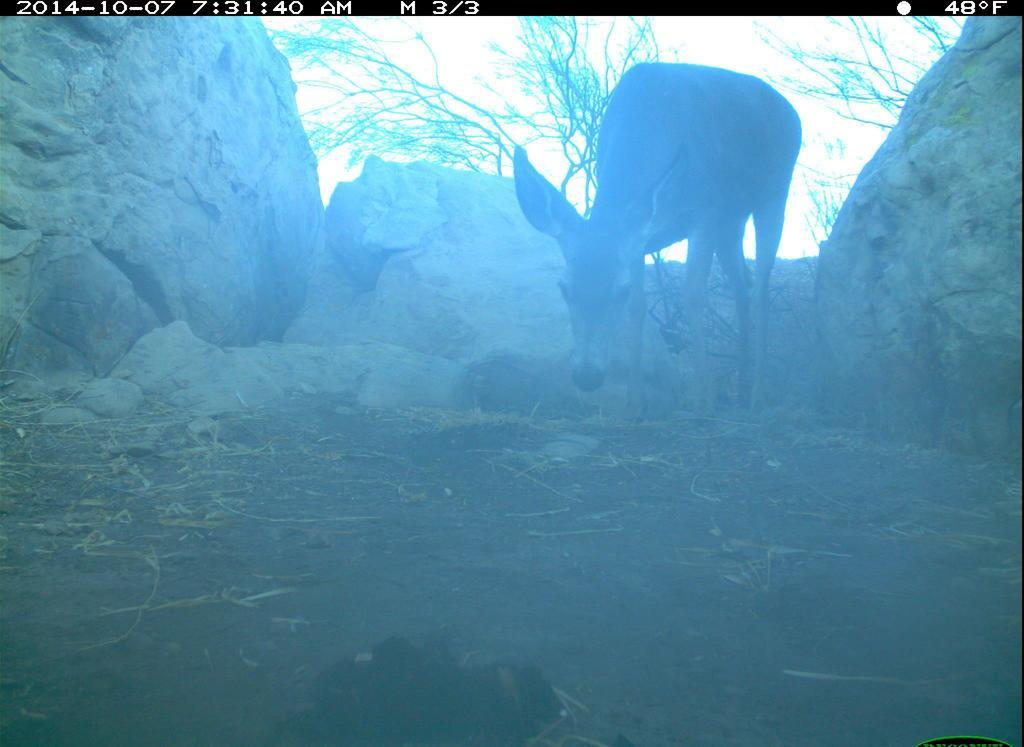deer: (498, 48, 811, 433)
